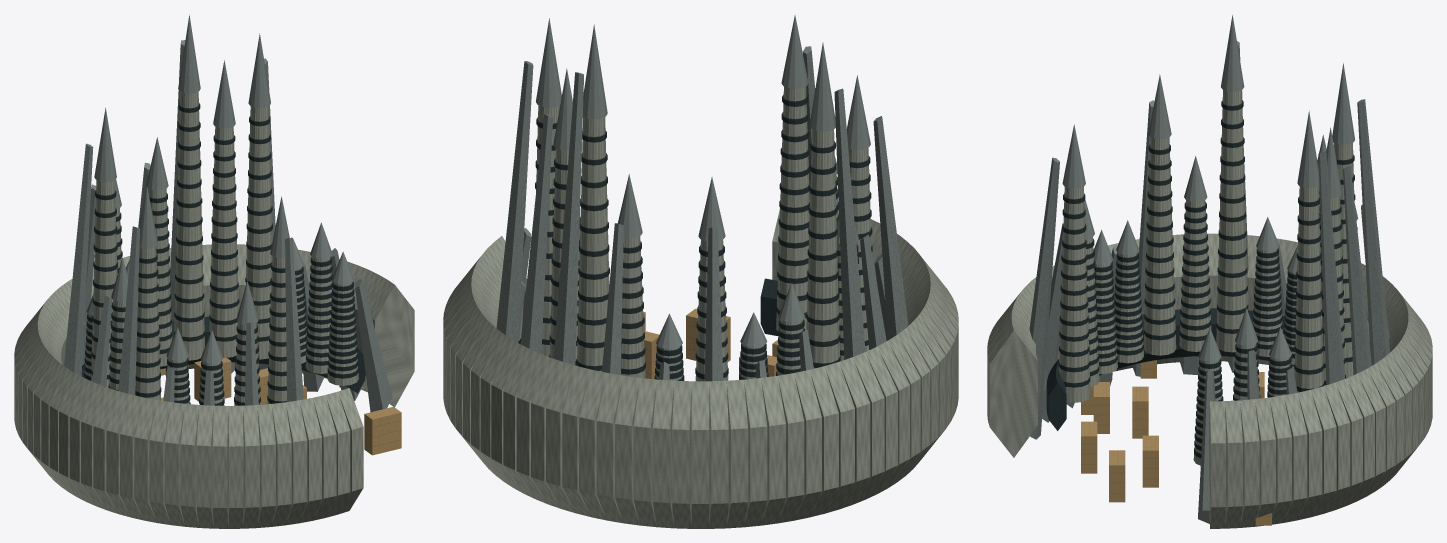
Rendered from fallen_crescent_01.fbx.
3 renders of one model, left to right at view 1: azimuth 30°, elevation 25°; view 2: azimuth 150°, elevation 25°; view 3: azimuth 270°, elevation 25°, orthographic. The views are drawn at different scales.
Visible parts, largest first — view 1: fallen_crescent_01_LOD0; view 2: fallen_crescent_01_LOD0; view 3: fallen_crescent_01_LOD0.
Part boxes in pixels (x1,y1,x2,y2): fallen_crescent_01_LOD0: [14, 14, 414, 528]; fallen_crescent_01_LOD0: [443, 15, 958, 528]; fallen_crescent_01_LOD0: [987, 15, 1432, 528].
Size of what is drawn, in the model's own units: 1 by 1 by 1.
